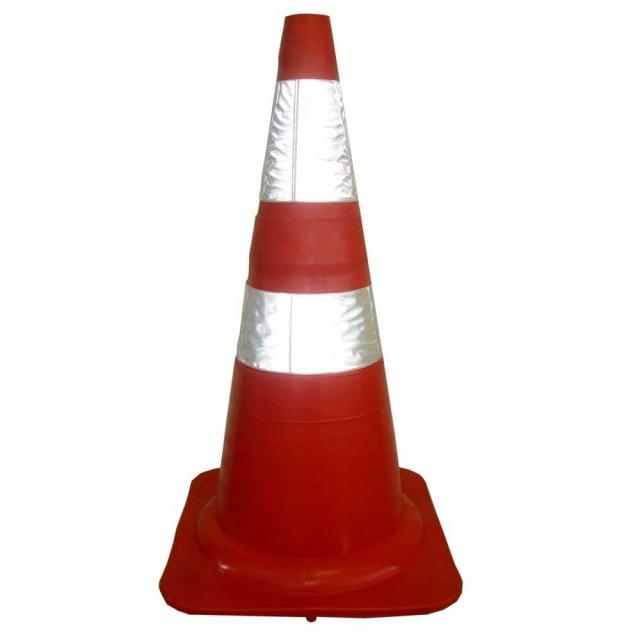cone: (154, 15, 473, 623)
